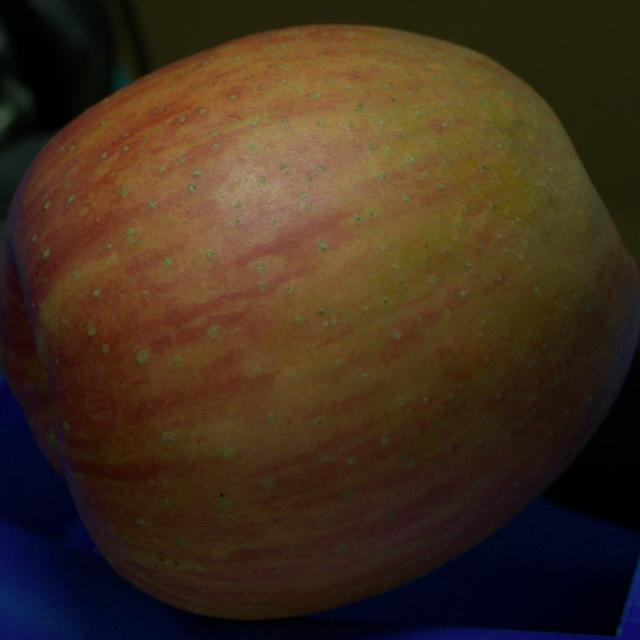apple: (0, 26, 639, 619)
